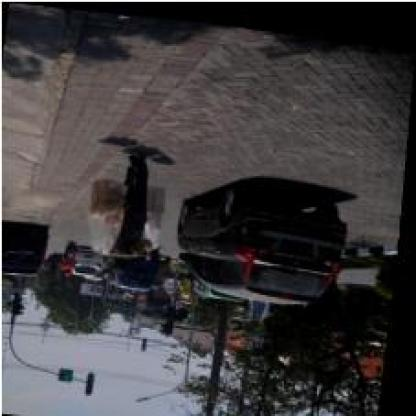green: (14, 292, 26, 314), (90, 370, 101, 392), (170, 307, 178, 327)
